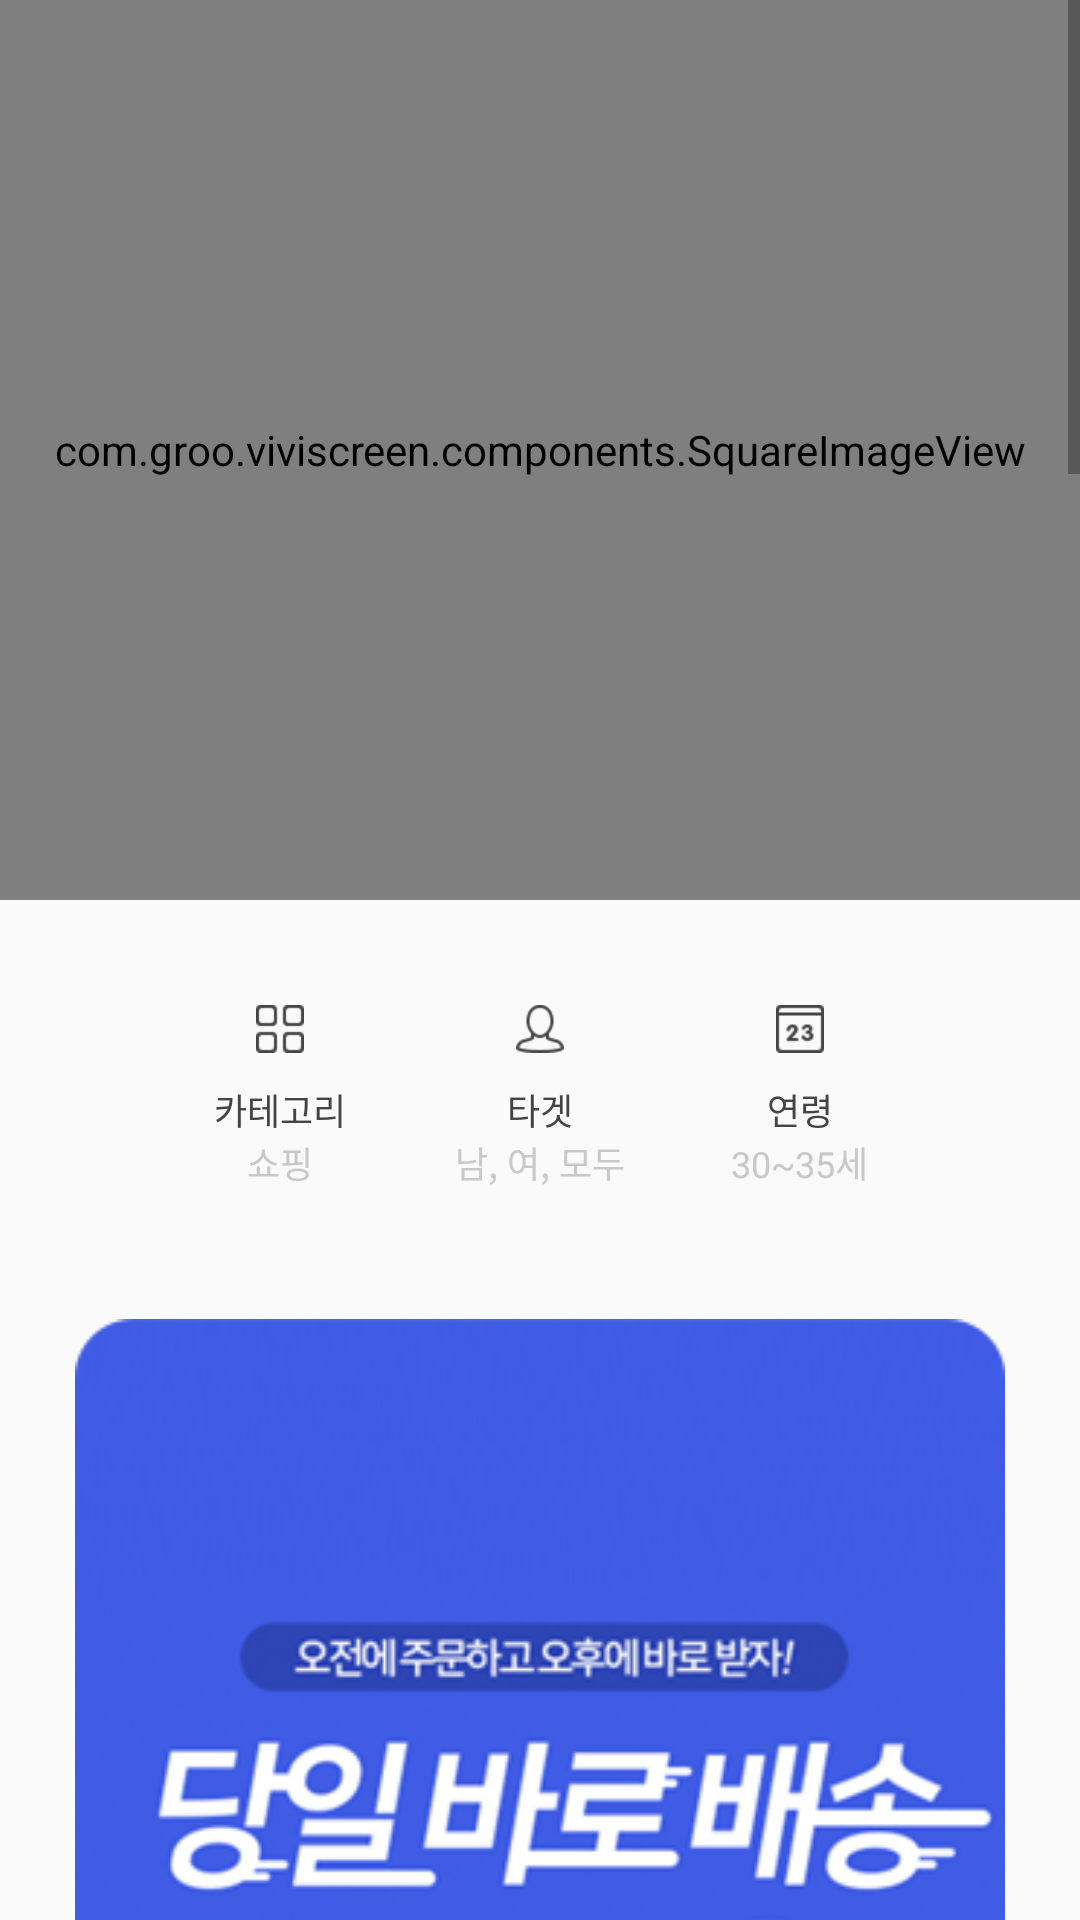

Icons on this 1080w x 1920h Android screen, each with its box as bbox=[x1, y1, x2, y2]:
user: bbox=[516, 1005, 564, 1053]
